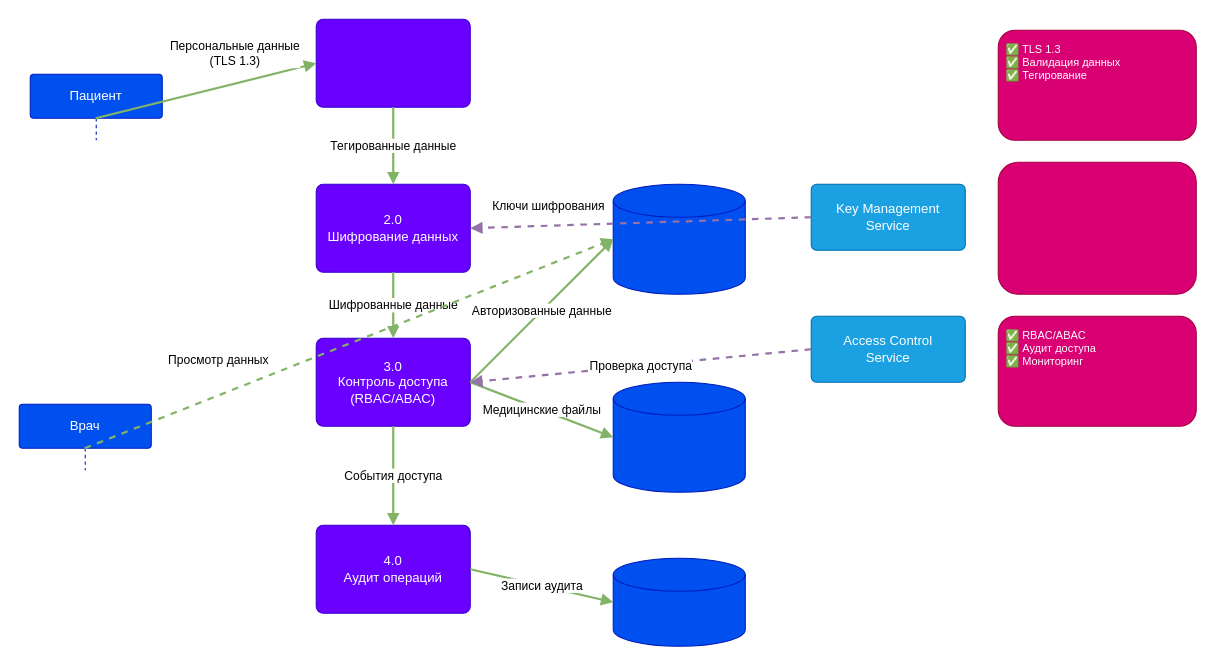
Image size: 1216x666. Some labels were removed from this diagram. Each missing label, with the box of its shape:
1.0 Валидация и тегирование данных: (315, 18, 470, 107)
Audit Log: Журнал аудита: (612, 557, 745, 646)
Object Storage: Медицинские файлы (шифрованные): (612, 381, 745, 492)
База данных: Пациенты (шифрованная): (612, 183, 745, 294)
✅ AES-256 шифрование ✅ Key Management ✅ Контроль доступа: (997, 161, 1196, 294)
